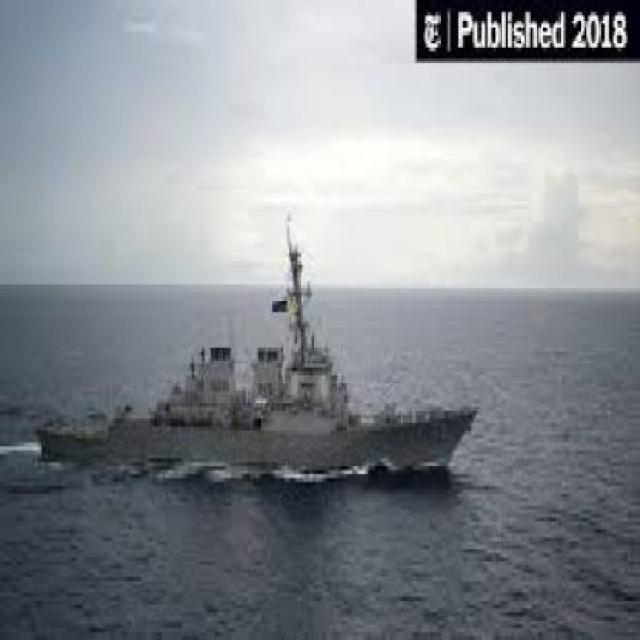warship2: (30, 166, 493, 511)
